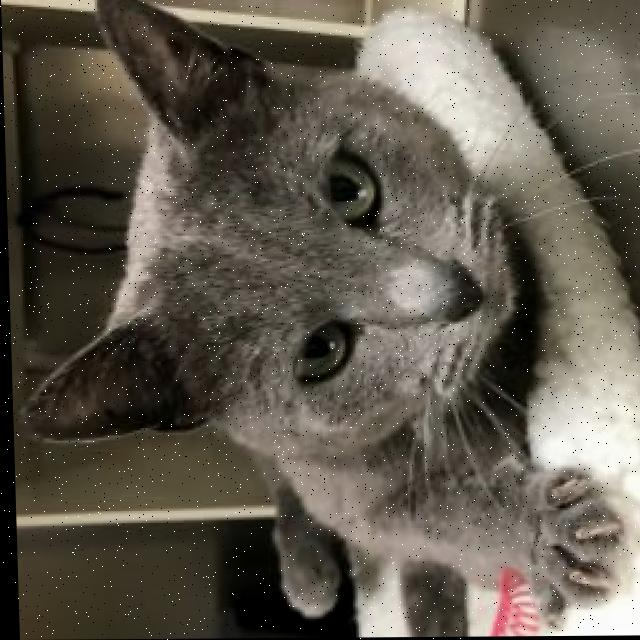Russian Blue: (1, 0, 629, 638)
